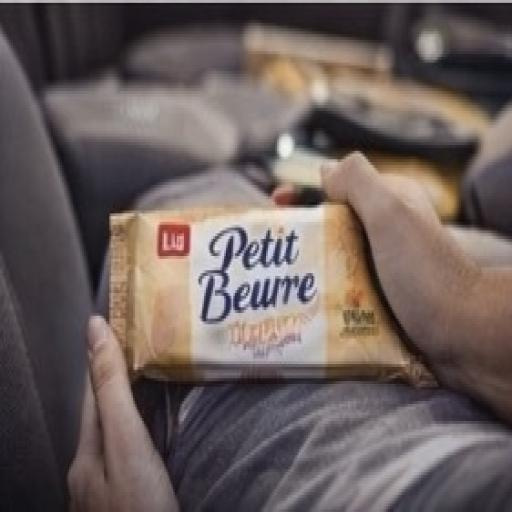petit_beurre: (86, 156, 463, 418)
